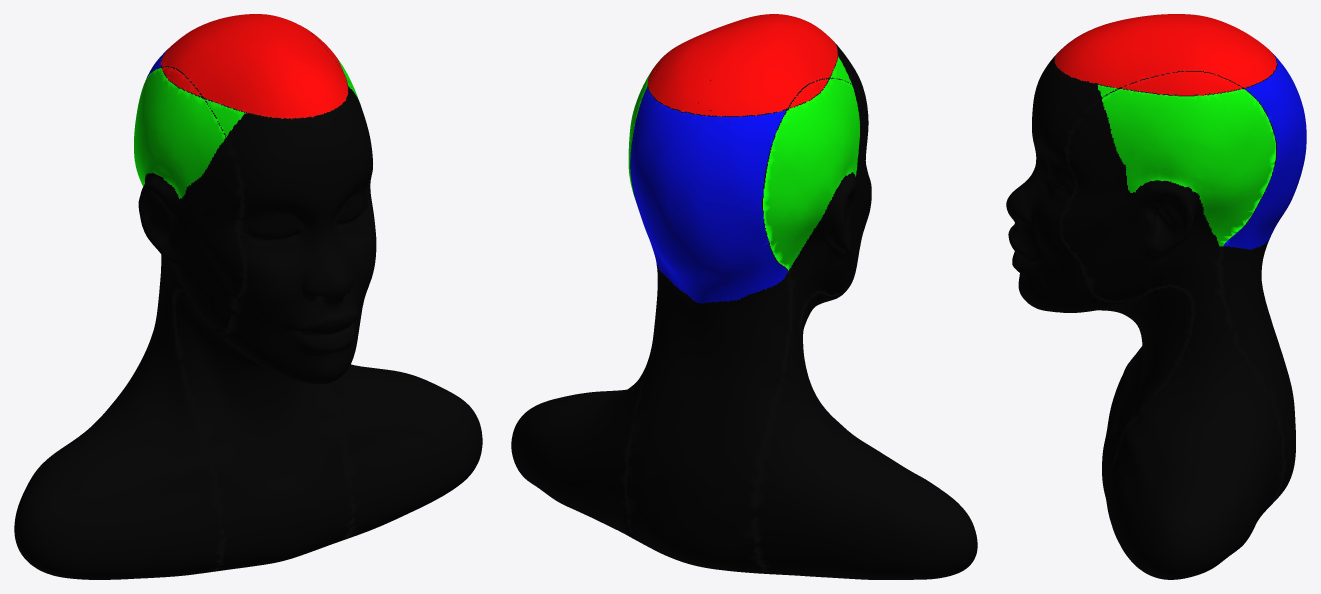
File: custom_bust.glb
3 views of the same model, side by side, from view 1: azimuth 30°, elevation 25°; view 2: azimuth 150°, elevation 25°; view 3: azimuth 270°, elevation 25° (orthographic). The views are drawn at different scales.
Parts seen in each view (by area): view 1: Sphere.002; view 2: Sphere.002; view 3: Sphere.002.
Boxes of the visible parts, <box> form: Sphere.002: <box>14,14,482,579</box>; Sphere.002: <box>511,14,977,579</box>; Sphere.002: <box>1006,14,1306,579</box>.
Size of the model in its own units: 215853 by 231086 by 129891.
1 material, 1 textured.
